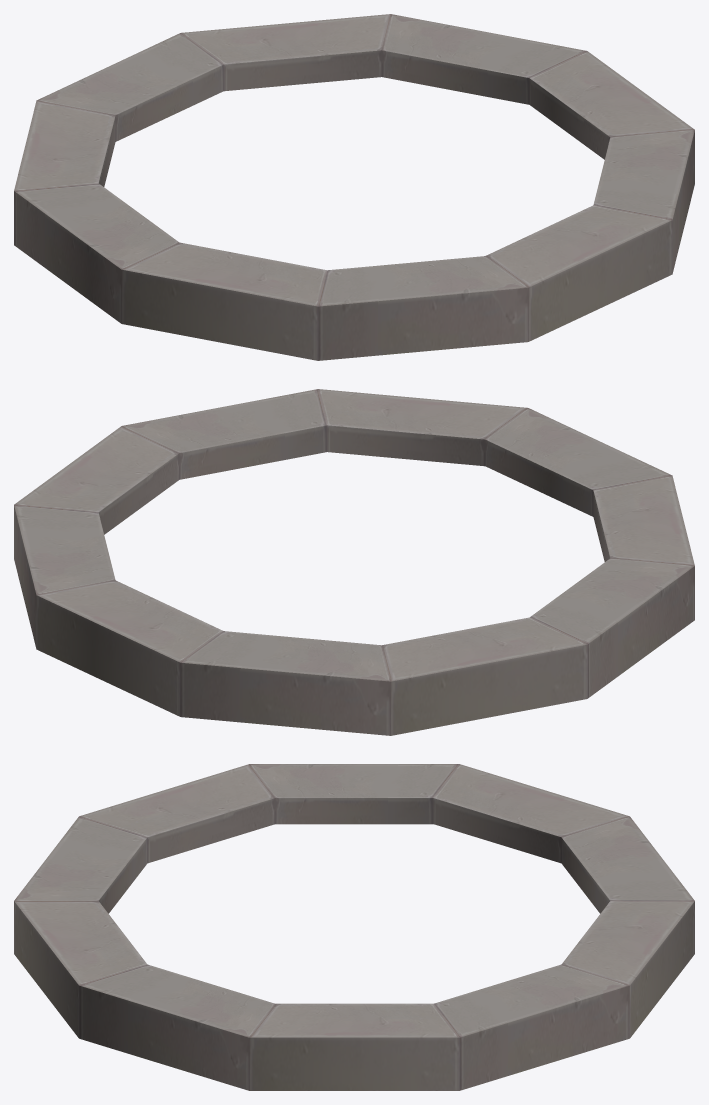
File: scene_luoliante_shubaobian01.FBX
3 views of the same model, one above another, from view 1: azimuth 30°, elevation 25°; view 2: azimuth 150°, elevation 25°; view 3: azimuth 270°, elevation 25° (orthographic). The views are drawn at different scales.
Visible parts, largest first — view 1: scene_luoliante_shubaobian01; view 2: scene_luoliante_shubaobian01; view 3: scene_luoliante_shubaobian01.
Part boxes in pixels (left/top/right/bottom): scene_luoliante_shubaobian01: left=14, top=14, right=694, bottom=360; scene_luoliante_shubaobian01: left=14, top=389, right=694, bottom=735; scene_luoliante_shubaobian01: left=14, top=764, right=694, bottom=1090.
Size of the model in its own units: 169 by 15.32 by 178.
